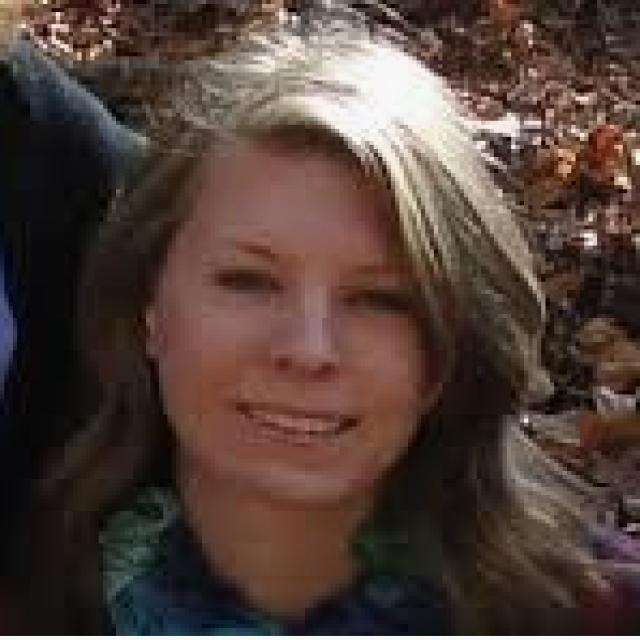normal_face: (146, 114, 450, 526)
